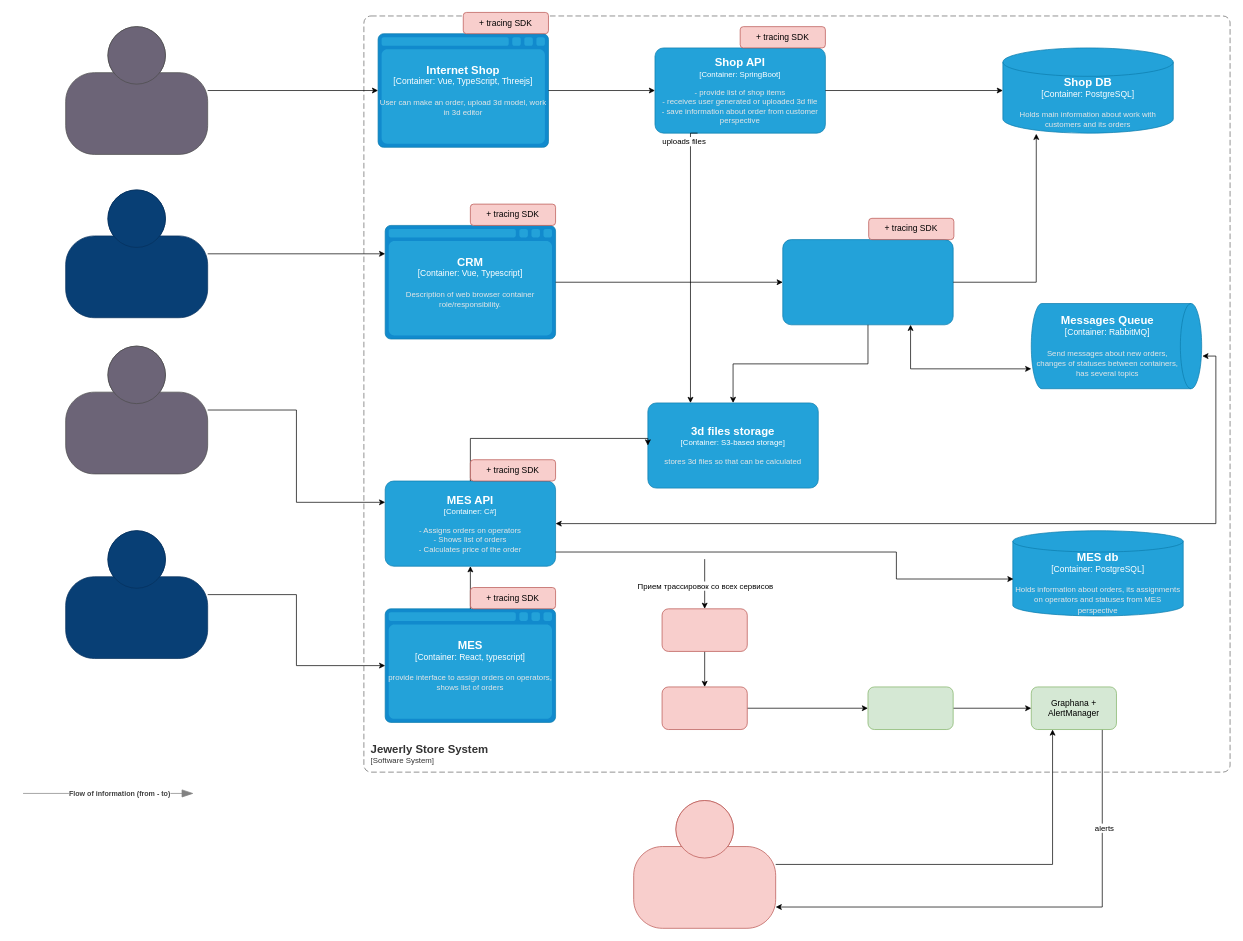
Some shapes in this 1243 by 941 pixel diagram are drawn without their labels. The centre of each missing label's shape, as x and y in pixels:
API user [Person] Description of external person.: the point at 136,409
CRM API [Container: SpringBoot] Description of container role/responsibility.: the point at 867,282
Customer [Person] Description of external person.: the point at 136,90
Jaeger (Jaeger UI): the point at 704,708
Opensearch (backend for Jeager): the point at 910,708
Operator [Person] Takes order in work, manufactures jewerly: the point at 136,594
Otel Colelctor: the point at 704,629
Seller [Person] Operates with order, confirms manufacturing for the user: the point at 136,253
Support, testers, devs [Person] Просмотр трассировок: the point at 704,864
